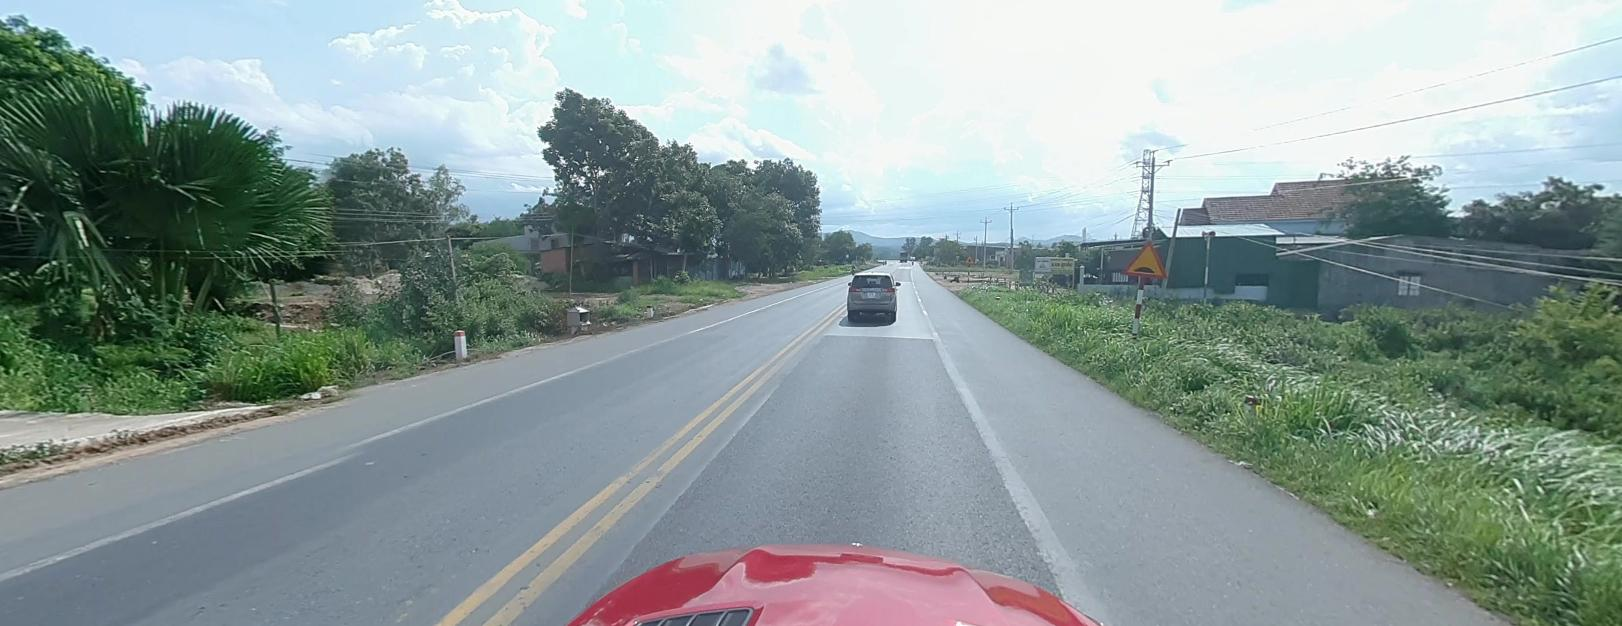Nguy hiem: (1123, 237, 1167, 276), (964, 254, 973, 262)
